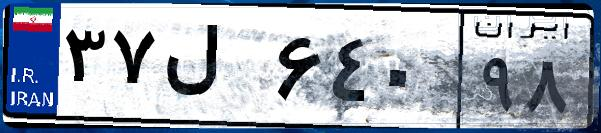0: (385, 28, 445, 110)
3: (57, 26, 110, 100)
4: (330, 28, 385, 110)
6: (270, 28, 330, 110)
7: (110, 28, 158, 98)
8: (525, 38, 570, 115)
9: (475, 38, 525, 113)
ل: (158, 20, 270, 120)
